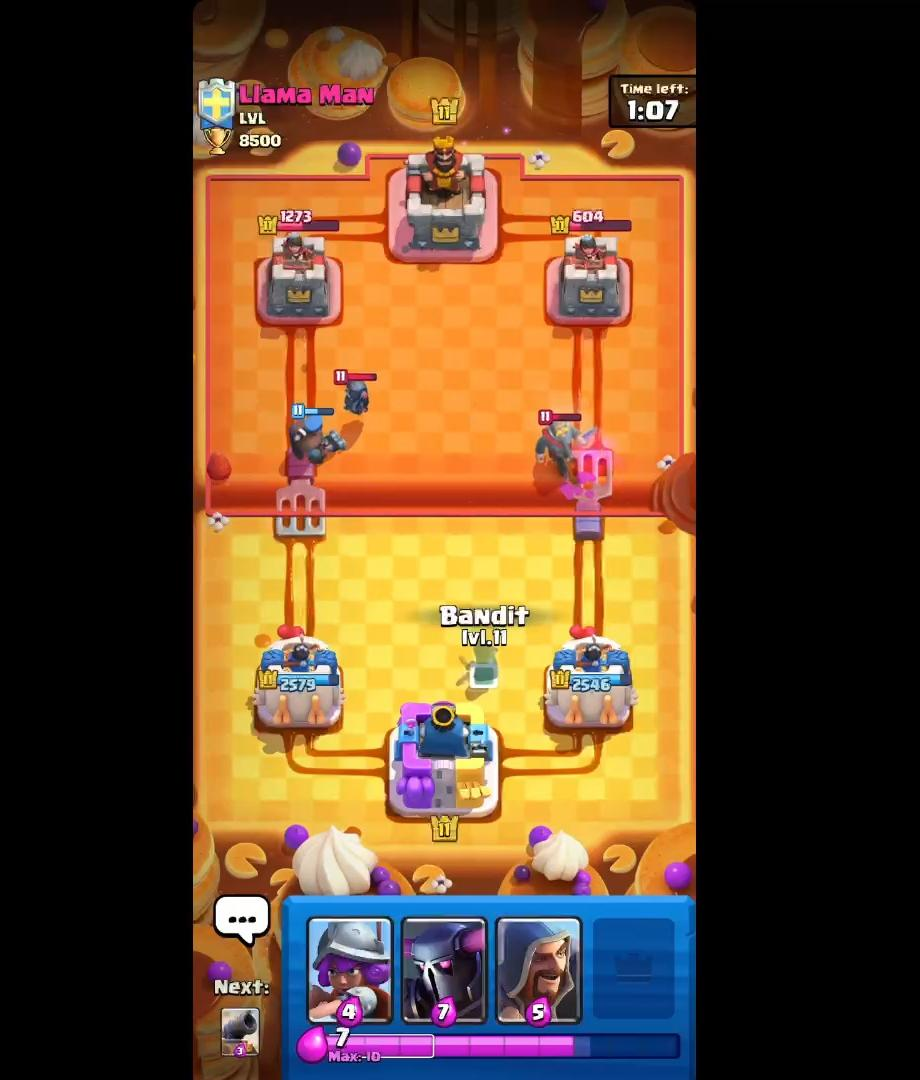Knight: (530, 405, 591, 476)
Mini Pekka: (330, 365, 385, 423)
